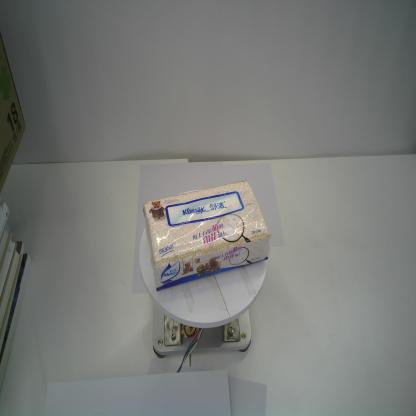Tissue: (144, 180, 271, 292)
